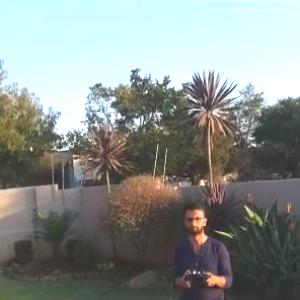follow: (166, 197, 239, 299)
